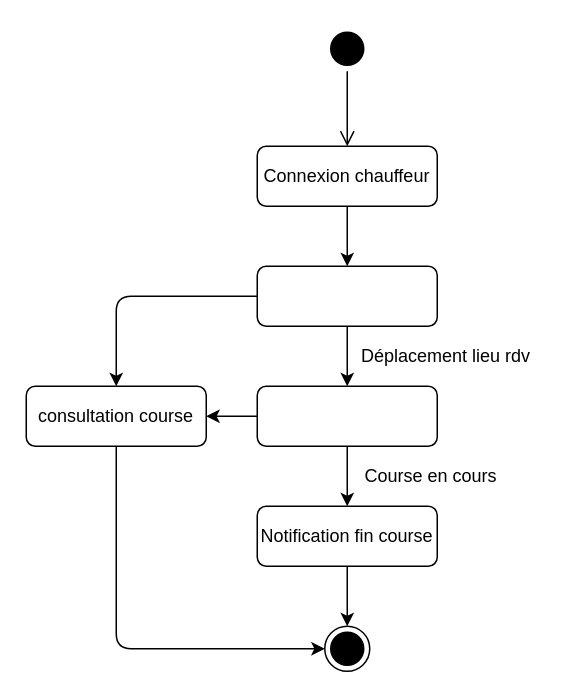
This 563x698 diagram has some shape labels left out. Each missing label, with the box of its shape:
Notification reçu: (256, 265, 437, 326)
Prise en charge du client: (256, 385, 437, 446)
